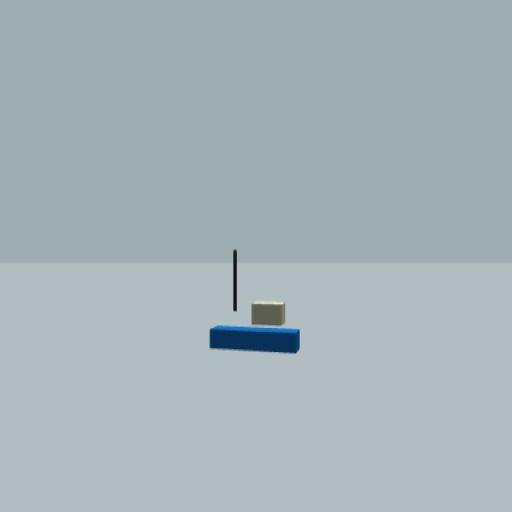fishing_boat: (208, 246, 302, 357)
